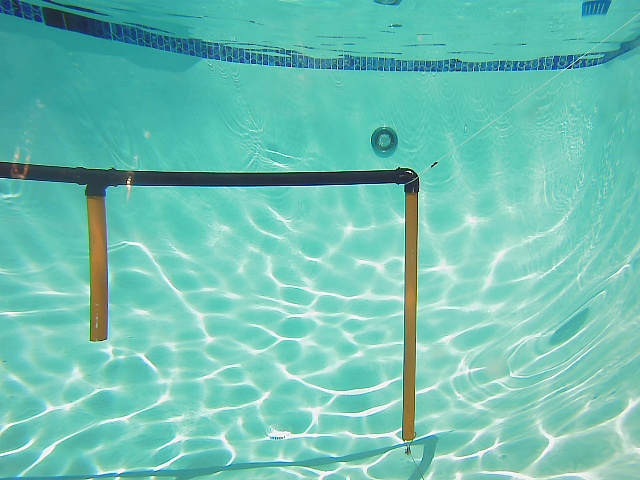Gate: (398, 188, 419, 444), (84, 190, 110, 343)
